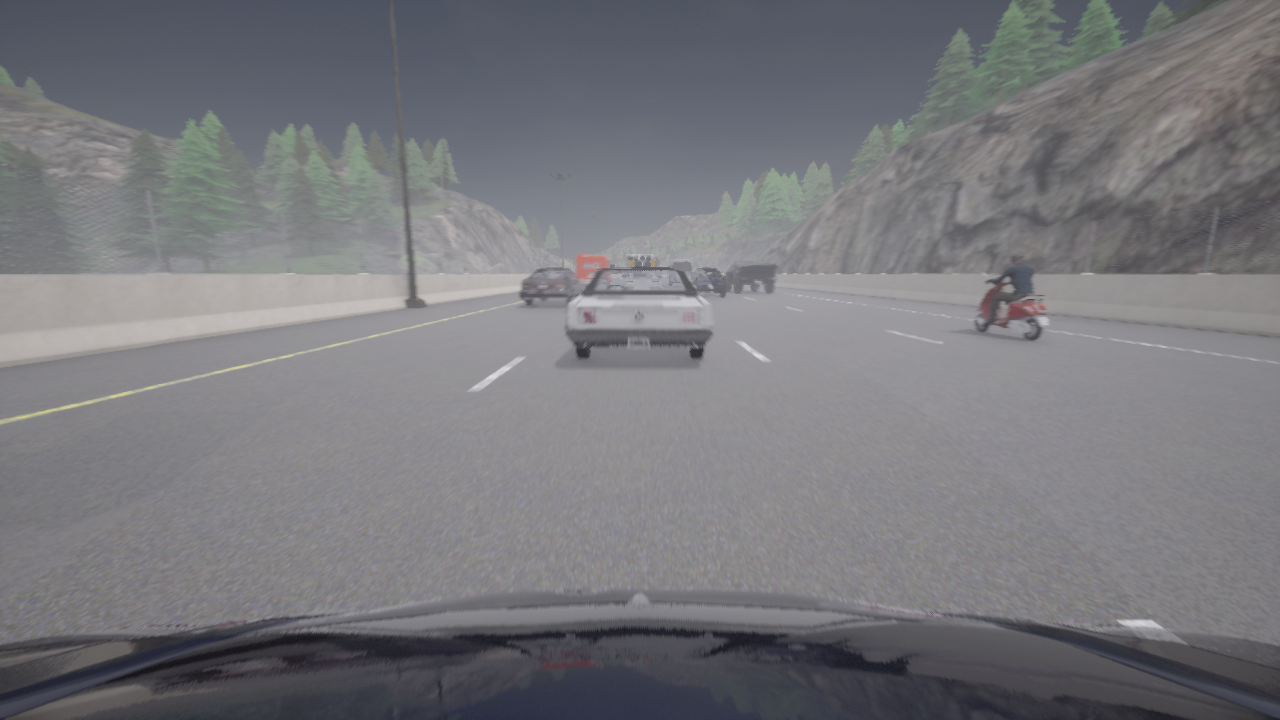cyclist: (0, 588, 1279, 719), (565, 268, 713, 359), (974, 272, 1049, 341), (520, 269, 583, 305), (725, 260, 776, 292), (576, 256, 613, 288), (689, 269, 725, 296), (669, 259, 692, 275), (626, 256, 658, 267)
